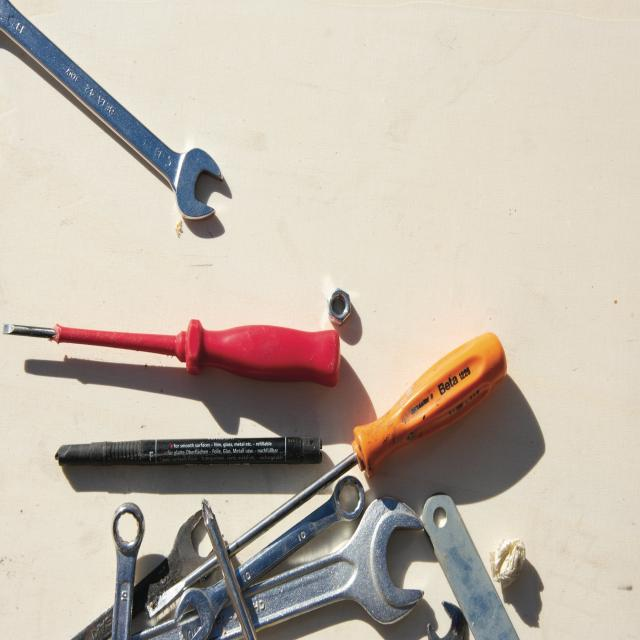Screwdriver: (148, 332, 507, 619), (4, 321, 340, 386)
